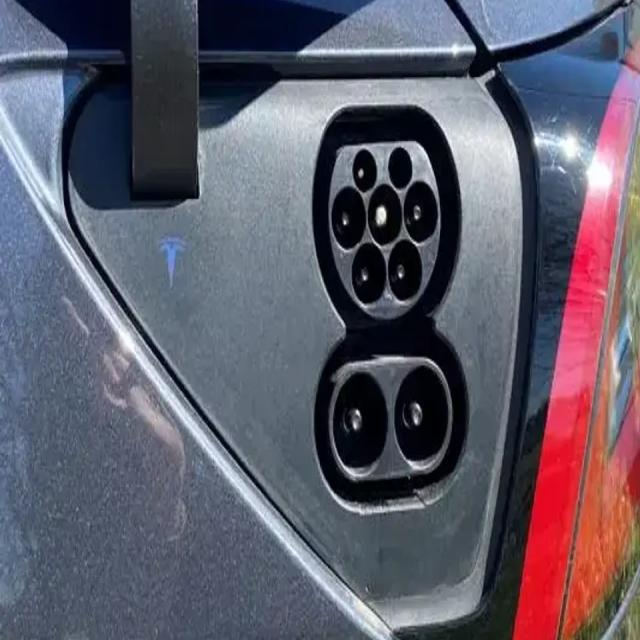inlet: (328, 140, 441, 321)
inlet-above-left: (353, 148, 377, 192)
inlet-above-right: (388, 148, 413, 191)
inlet-below-left: (351, 242, 386, 303)
inlet-below-right: (387, 238, 422, 303)
inlet-circle: (368, 184, 403, 246)
inlet-circle-left: (332, 185, 366, 251)
inlet-circle-right: (404, 182, 437, 242)
inlet-minus: (394, 366, 449, 469)
inlet-plus: (332, 371, 388, 477)
